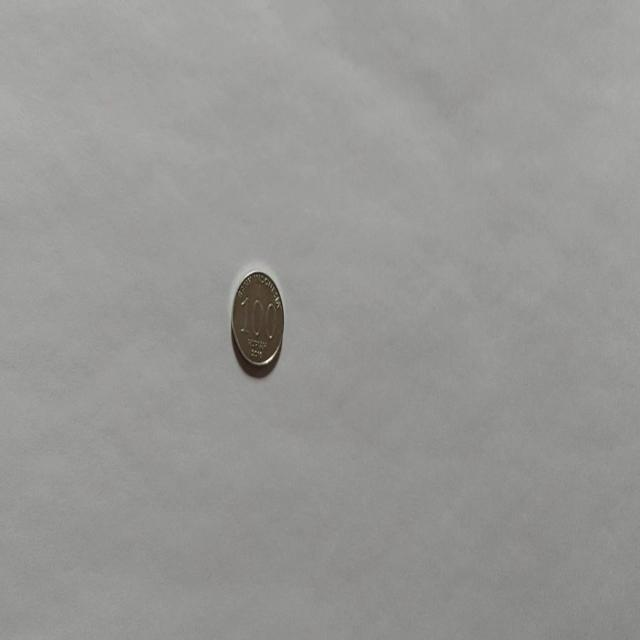seratus rupiah: (230, 268, 284, 372)
